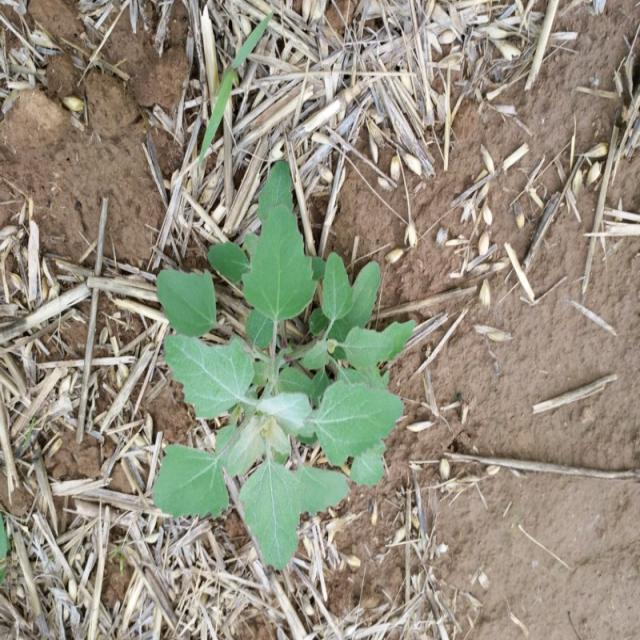goosefoots: (146, 182, 406, 576)
